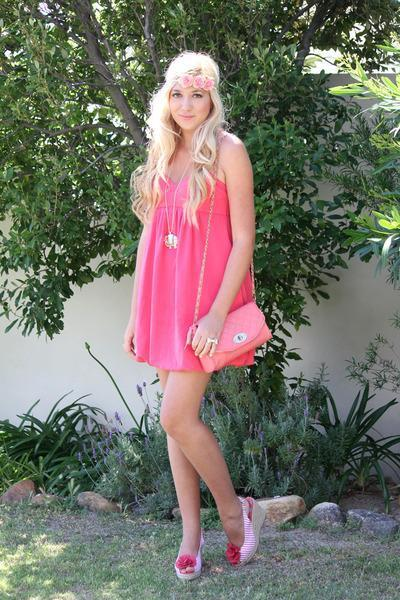bag: (199, 303, 272, 371)
dress: (138, 180, 255, 371)
shoe: (174, 497, 274, 583)
